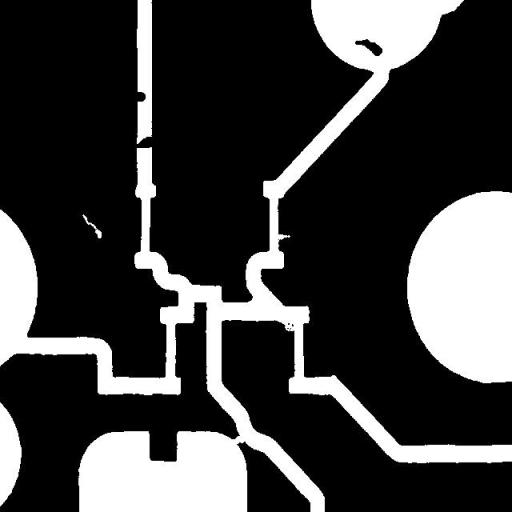copper: (347, 31, 390, 63)
mousebite: (273, 309, 302, 338), (268, 226, 298, 248)
open: (222, 426, 252, 452)
pin-hole: (74, 206, 109, 246)
short: (127, 129, 165, 155)
spur: (124, 84, 153, 109)
